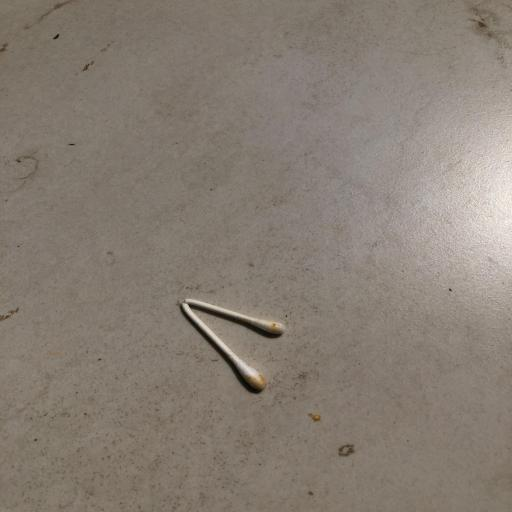waste: (166, 292, 315, 404)
